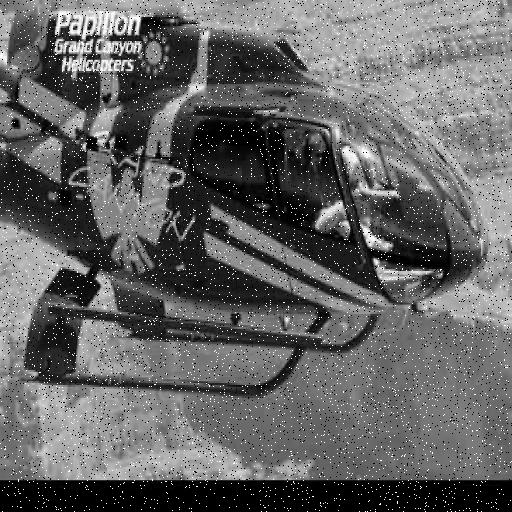helicopter: (1, 11, 502, 377)
